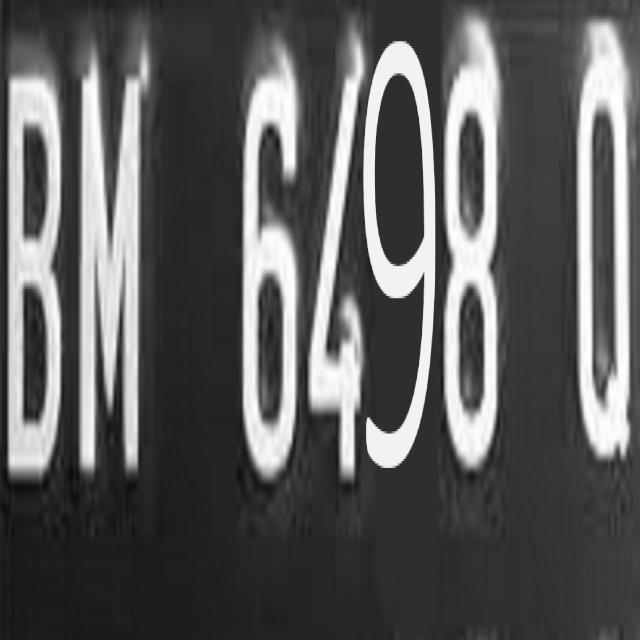4: (298, 52, 371, 511)
6: (228, 58, 302, 490)
8: (432, 45, 520, 480)
9: (356, 25, 438, 482)
B: (0, 54, 71, 492)
M: (72, 61, 155, 473)
Q: (568, 40, 640, 486)
